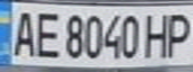0: (81, 10, 106, 60), (121, 10, 145, 60)
4: (103, 10, 124, 60)
8: (60, 10, 84, 60)
A: (6, 6, 39, 58)
E: (30, 7, 63, 60)
H: (142, 9, 175, 60)
P: (163, 9, 193, 58)
